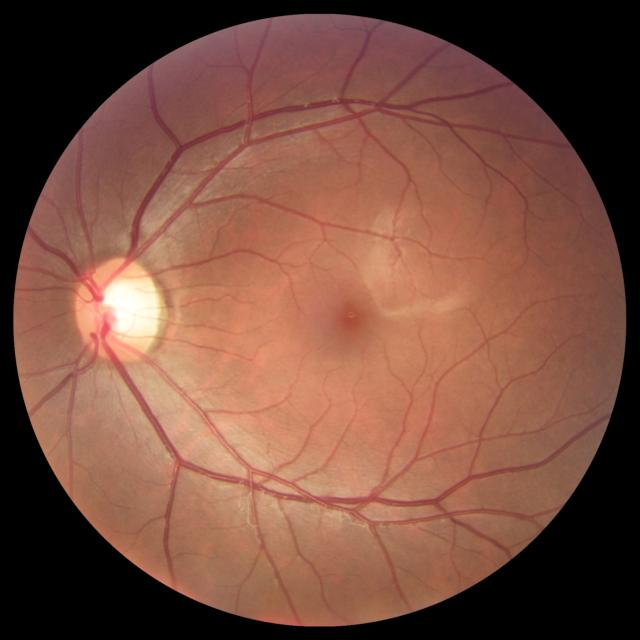OC: (100, 275, 159, 340)
OD: (75, 258, 162, 363)
